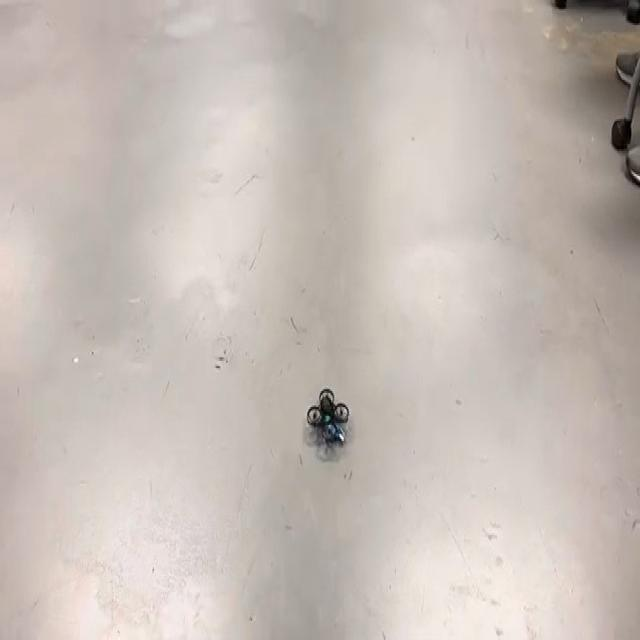drone: (298, 370, 356, 463)
